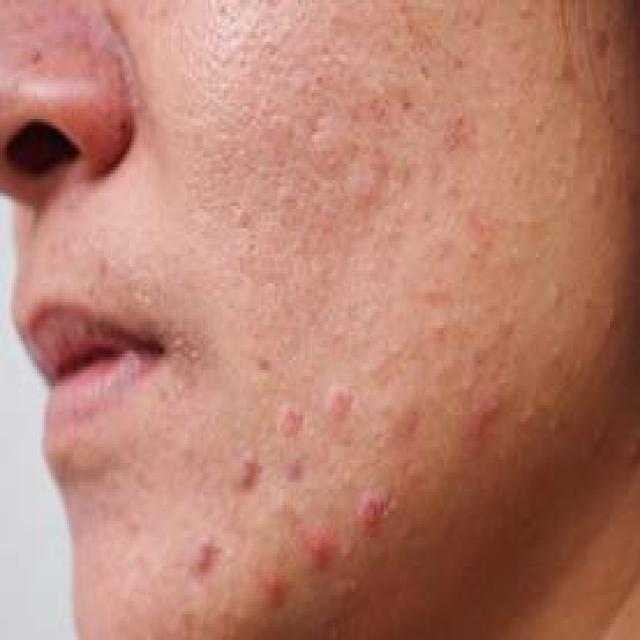Pimples: (300, 520, 335, 572), (356, 476, 386, 534), (275, 396, 305, 438), (323, 376, 349, 424), (192, 530, 217, 576), (256, 572, 286, 604), (234, 450, 258, 486)
